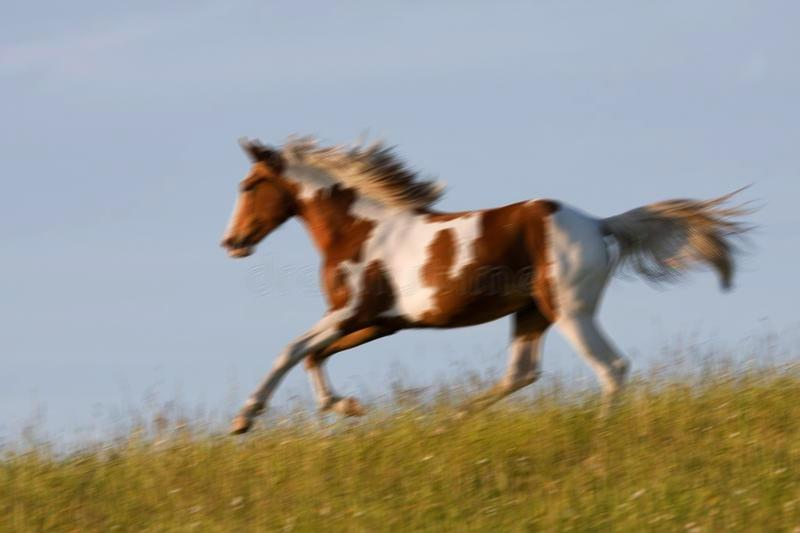horse: (213, 120, 767, 439)
